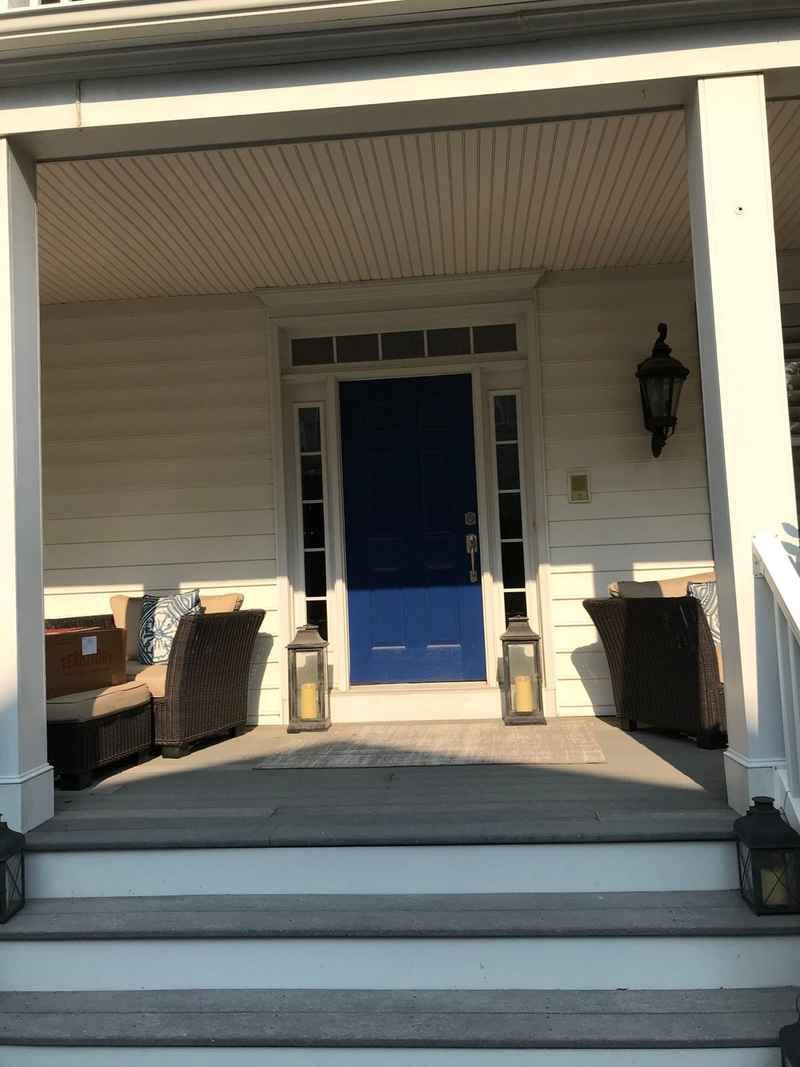package: (43, 621, 133, 703)
